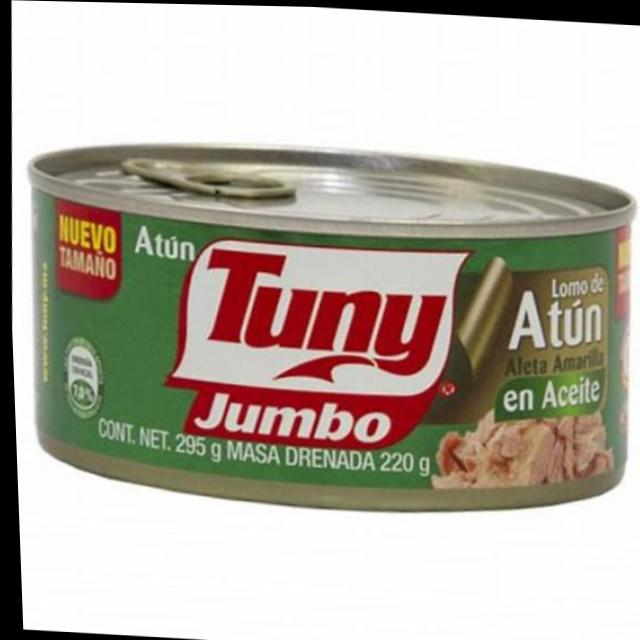Lata: (10, 136, 640, 527)
